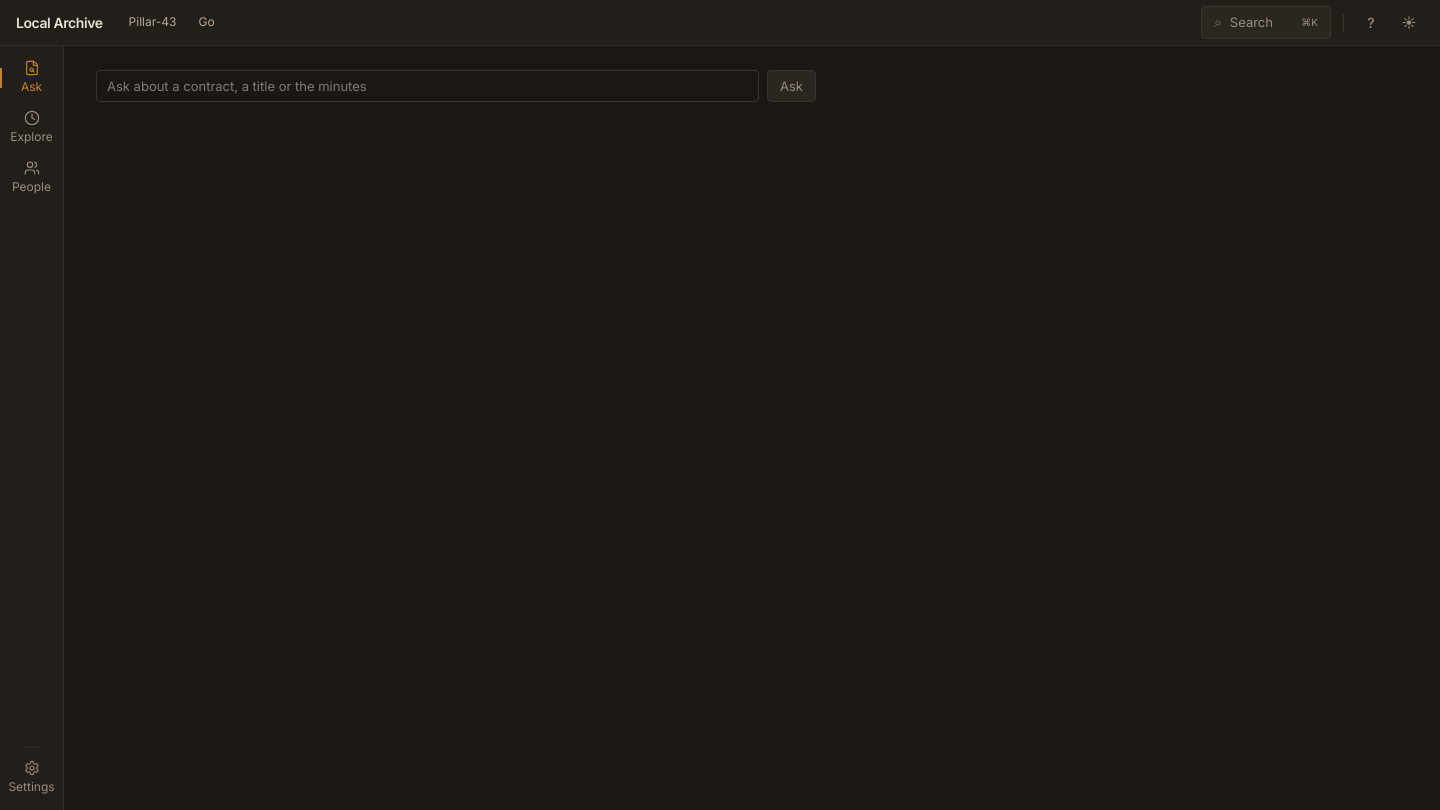
Test: App layout › opens the help overlay naming what exists
The width and height of the screenshot is (1440, 810).
Click the button with test id "help-btn" at (1371, 22), box x1=1356 y1=8 x2=1386 y2=38
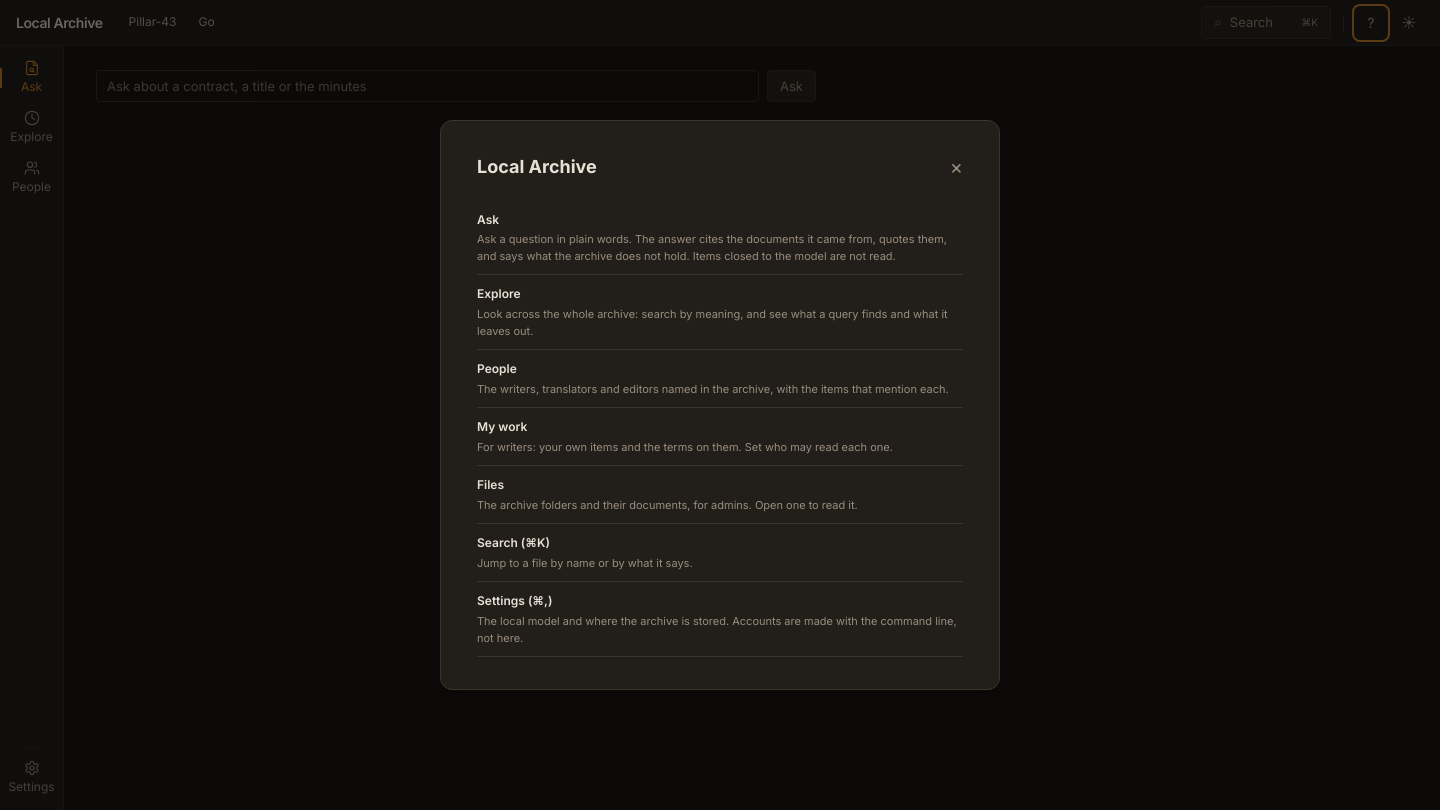
Result: the dialog shows "Ask" at x1=477 y1=212 x2=499 y2=227
Result: the dialog shows "Explore" at x1=477 y1=286 x2=521 y2=302
Result: the dialog shows "People" at x1=477 y1=361 x2=517 y2=376
